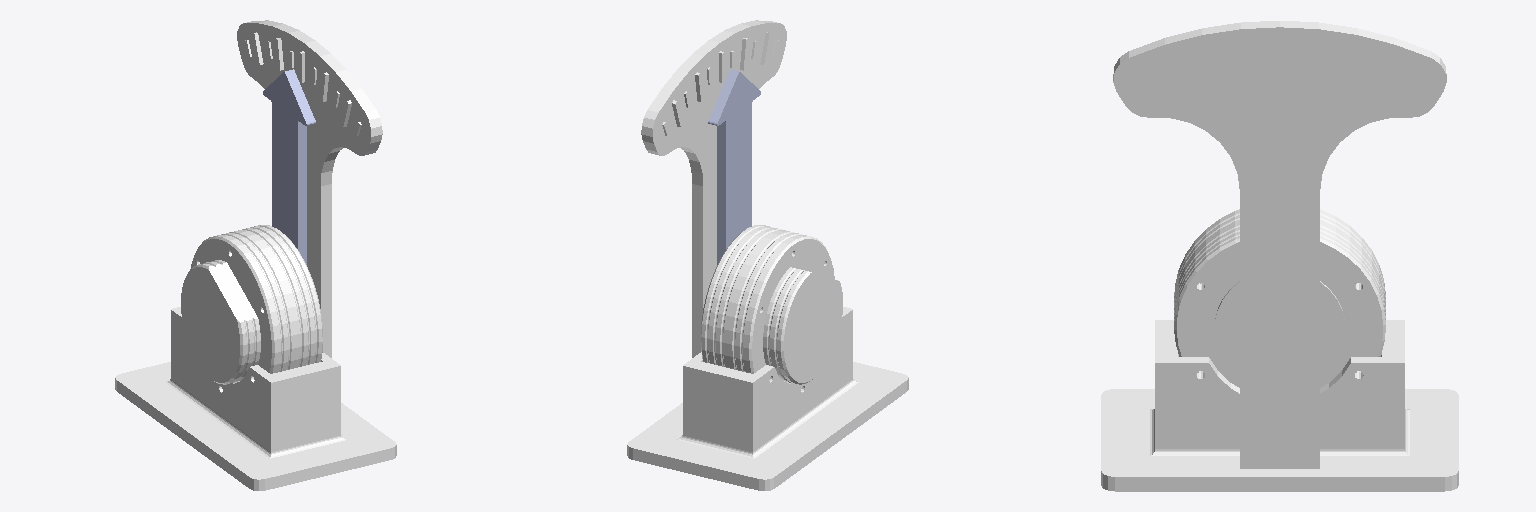
The robot description file, URDF, robot "pid_motor":
<?xml version="1.0" encoding="utf-8"?>
<!-- This URDF was automatically created by SolidWorks to URDF Exporter! Originally created by [author] ([email redacted]) 
     Commit Version: 1.6.0-4-g7f85cfe  Build Version: 1.6.7995.38578
     For more information, please see http://wiki.ros.org/sw_urdf_exporter -->
<robot
  name="pid_motor">
  <link
    name="base_link">
    <inertial>
      <origin
        xyz="-0.00030613 8.081E-05 0.05397154"
        rpy="0 0 0" />
      <mass
        value="0.4542" />
      <inertia
        ixx="0.00066083"
        ixy="-6.8E-07"
        ixz="5.441E-05"
        iyy="0.00052687"
        iyz="7.8E-07"
        izz="0.00029682" />
    </inertial>
    <visual>
      <origin
        xyz="0 0 0"
        rpy="0 0 0" />
      <geometry>
        <mesh
          filename="package://pid_motor/meshes/base_link.STL" />
      </geometry>
      <material
        name="">
        <color
          rgba="1 1 1 1" />
      </material>
    </visual>
    <collision>
      <origin
        xyz="0 0 0"
        rpy="0 0 0" />
      <geometry>
        <mesh
          filename="package://pid_motor/meshes/base_link.STL" />
      </geometry>
    </collision>
  </link>
  <link
    name="link1">
    <inertial>
      <origin
        xyz="0.0025 0 0.054084"
        rpy="0 0 0" />
      <mass
        value="0.00978" />
      <inertia
        ixx="1.3517E-05"
        ixy="0"
        ixz="0"
        iyy="1.3028E-05"
        iyz="0"
        izz="5.2946E-07" />
    </inertial>
    <visual>
      <origin
        xyz="0 0 0"
        rpy="0 0 0" />
      <geometry>
        <mesh
          filename="package://pid_motor/meshes/link1.STL" />
      </geometry>
      <material
        name="">
        <color
          rgba="0.792156862745098 0.819607843137255 0.933333333333333 1" />
      </material>
    </visual>
    <collision>
      <origin
        xyz="0 0 0"
        rpy="0 0 0" />
      <geometry>
        <mesh
          filename="package://pid_motor/meshes/link1.STL" />
      </geometry>
    </collision>
  </link>
  <joint
    name="joint1"
    type="revolute">
    <origin
      xyz="0.015489 0 0.0555"
      rpy="0 0 0" />
    <parent
      link="base_link" />
    <child
      link="link1" />
    <axis
      xyz="1 0 0" />
    <limit
      lower="-1.5708"
      upper="1.5708"
      effort="5"
      velocity="10.0" />
  </joint>
</robot>

--- What the picture shows (computed from the rendered views, not written in the file) ---
Views: 3 orthographic renders of the robot side by side, from view 1: azimuth 30°, elevation 25°; view 2: azimuth 150°, elevation 25°; view 3: azimuth 270°, elevation 25°.
Robot: pid_motor — 2 links, 1 joints (1 revolute); root link base_link; default pose: every joint at zero.
Links seen in each view (by area): view 1: base_link, link1; view 2: base_link, link1; view 3: base_link.
Boxes of the visible links, <box> form: base_link: <box>115,20,396,490</box>; link1: <box>263,69,315,264</box>; base_link: <box>627,20,908,490</box>; link1: <box>708,69,760,264</box>; base_link: <box>1101,21,1458,491</box>.
Bounding box of the posed robot: 0.0775 × 0.133 × 0.1875 m (x, y, z).
2 mesh visuals loaded from 2 distinct referenced files (2 binary STL).